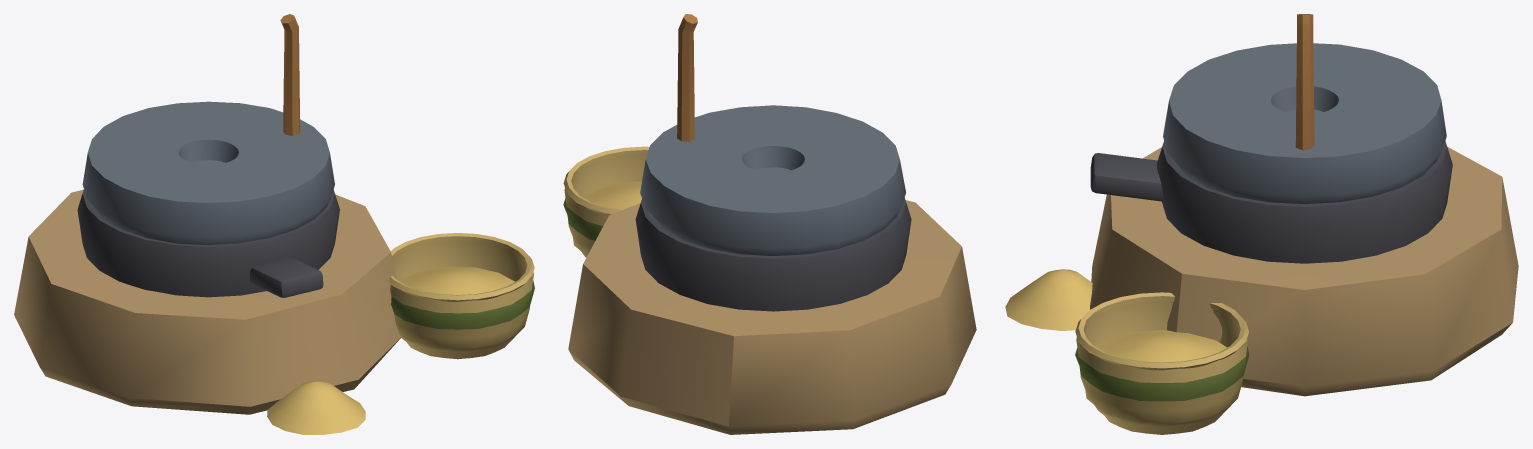
Rendered from deco_grinding_stone_rotary.fbx.
3 views of the same model, side by side, from view 1: azimuth 30°, elevation 25°; view 2: azimuth 150°, elevation 25°; view 3: azimuth 270°, elevation 25° (orthographic). The views are drawn at different scales.
Visible parts, largest first — view 1: GrindingStone_Rotary_Platform, GrindingStone_Rotary_RunnerStone, GrindingStone_Rotary_Flour, GrindingStone_Rotary_BedStone; view 2: GrindingStone_Rotary_Platform, GrindingStone_Rotary_RunnerStone, GrindingStone_Rotary_BedStone, GrindingStone_Rotary_Flour; view 3: GrindingStone_Rotary_Platform, GrindingStone_Rotary_RunnerStone, GrindingStone_Rotary_Flour, GrindingStone_Rotary_BedStone.
Boxes of the visible parts, left/top/right/bottom form: GrindingStone_Rotary_Platform: left=14, top=189, right=401, bottom=414; GrindingStone_Rotary_RunnerStone: left=82, top=14, right=334, bottom=245; GrindingStone_Rotary_Flour: left=267, top=233, right=534, bottom=434; GrindingStone_Rotary_BedStone: left=77, top=189, right=339, bottom=297; GrindingStone_Rotary_Platform: left=568, top=200, right=976, bottom=434; GrindingStone_Rotary_RunnerStone: left=640, top=14, right=905, bottom=255; GrindingStone_Rotary_BedStone: left=635, top=197, right=911, bottom=311; GrindingStone_Rotary_Flour: left=563, top=146, right=649, bottom=257; GrindingStone_Rotary_Platform: left=1090, top=147, right=1518, bottom=396; GrindingStone_Rotary_RunnerStone: left=1163, top=14, right=1446, bottom=203; GrindingStone_Rotary_Flour: left=1005, top=269, right=1249, bottom=434; GrindingStone_Rotary_BedStone: left=1090, top=141, right=1452, bottom=263.
Bounding box in the file's own units: 193 × 132 × 180.
